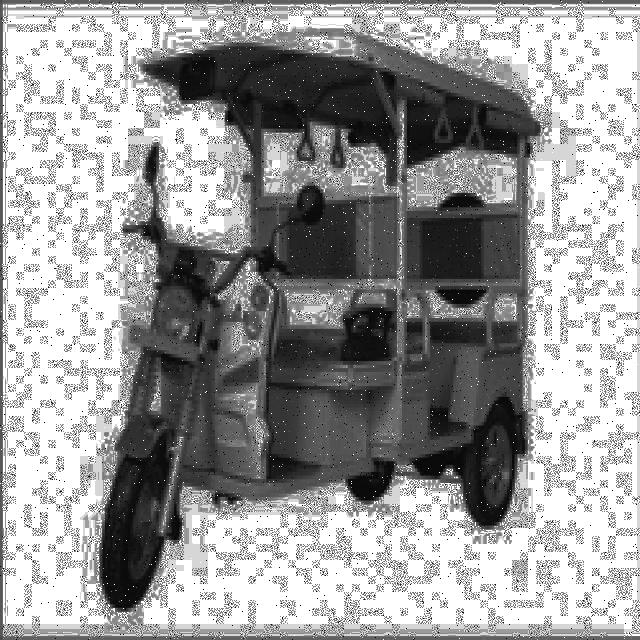Toto: (110, 25, 536, 613)
